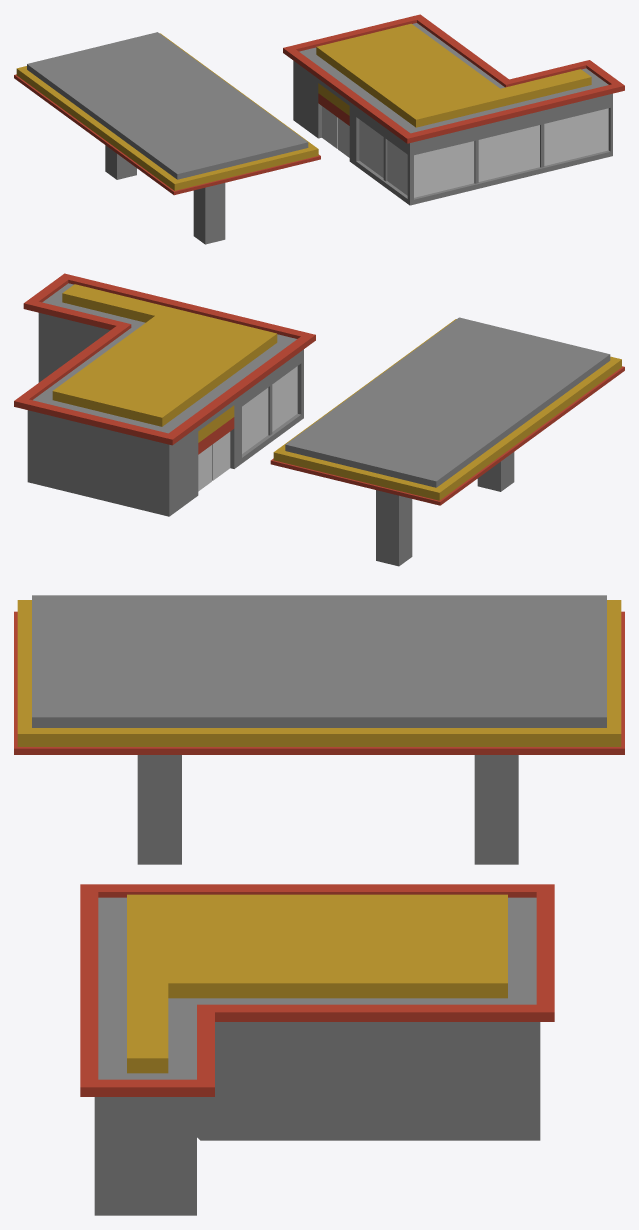
File: Station_Checkpoint 1.fbx
3 views of the same model, one above another, from view 1: azimuth 30°, elevation 25°; view 2: azimuth 150°, elevation 25°; view 3: azimuth 270°, elevation 25° (orthographic). The views are drawn at different scales.
Parts seen in each view (by area): view 1: Station_Checkpoint; view 2: Station_Checkpoint; view 3: Station_Checkpoint.
Boxes of the visible parts, x1,y1,x2,y2 form: Station_Checkpoint: (14,14,624,244); Station_Checkpoint: (14,273,624,566); Station_Checkpoint: (14,595,624,1215).
Size of the model in its own units: 3234 by 687 by 1913.
Materials: 1 (1 with a texture image).
